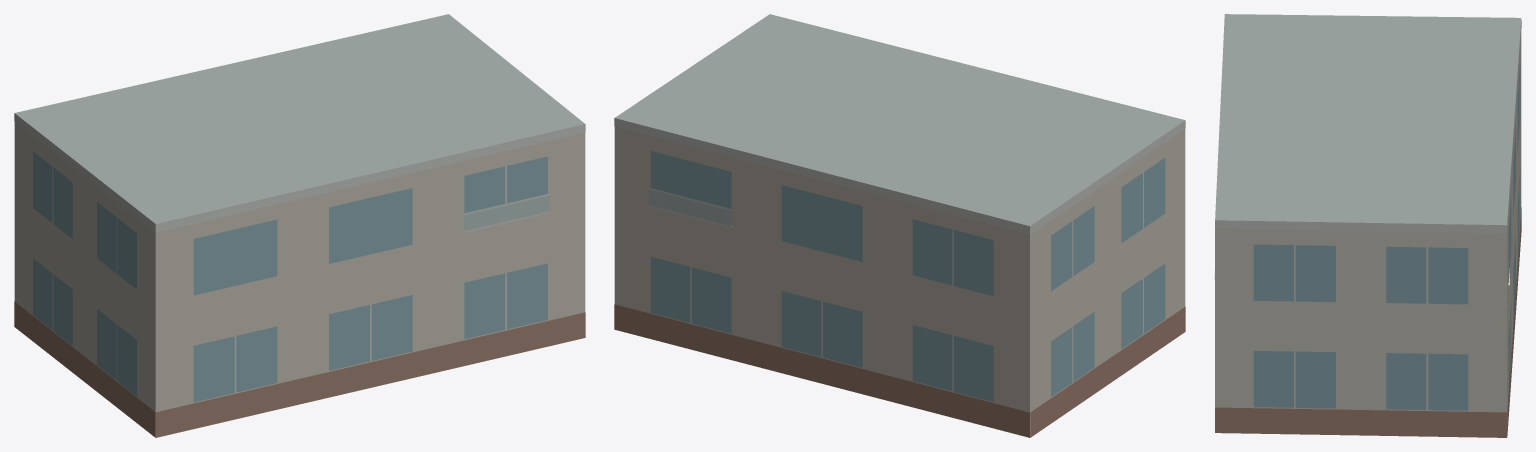
The model's file is survey-upis-32981284.glb.
The picture shows the model from 3 angles, left to right: view 1: azimuth 30°, elevation 25°; view 2: azimuth 150°, elevation 25°; view 3: azimuth 270°, elevation 25°; orthographic projection.
Parts seen in each view (by area): view 1: survey-upis-32981284.tmp; view 2: survey-upis-32981284.tmp; view 3: survey-upis-32981284.tmp.
Boxes of the visible parts, x1,y1,x2,y2 form: survey-upis-32981284.tmp: (14, 14, 585, 437); survey-upis-32981284.tmp: (614, 14, 1185, 437); survey-upis-32981284.tmp: (1214, 14, 1521, 437).
Size of the model in its own units: 13 by 6.1 by 7.99.
